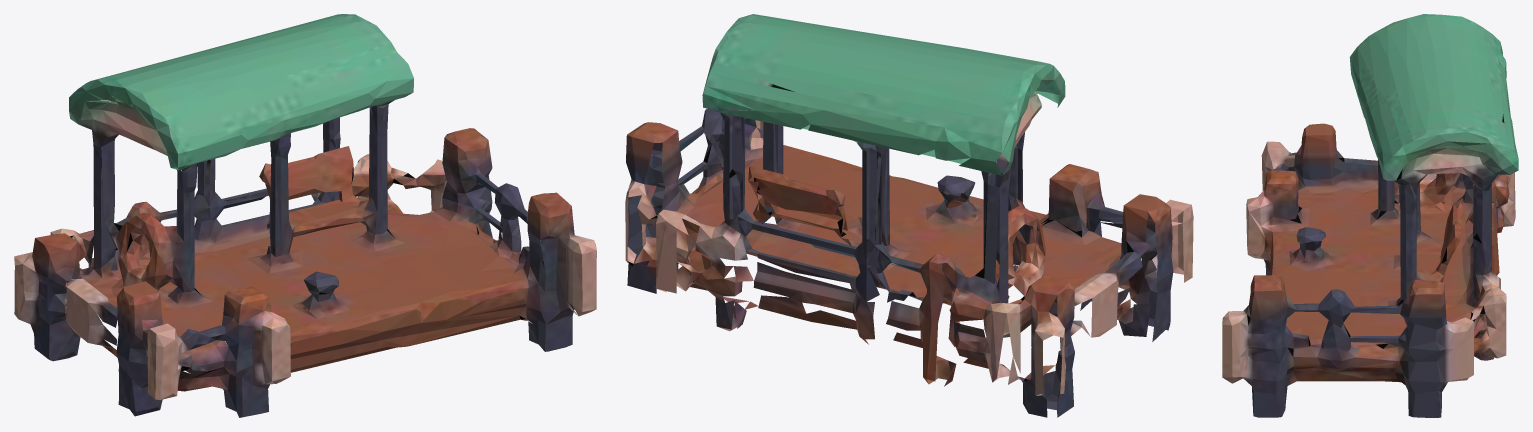
The model's file is M-13_05_waterbus_stop.glb.
The picture shows the model from 3 angles, left to right: view 1: azimuth 30°, elevation 25°; view 2: azimuth 150°, elevation 25°; view 3: azimuth 270°, elevation 25°; orthographic projection. The views are drawn at different scales.
Visible parts, largest first — view 1: loA; view 2: loA; view 3: loA.
Part boxes in pixels (left/top/right/bottom): loA: left=14, top=14, right=596, bottom=417; loA: left=625, top=14, right=1193, bottom=417; loA: left=1222, top=14, right=1518, bottom=417.
Size of the model in its own units: 5.91 by 3.65 by 3.89.
1 material, 1 textured.
